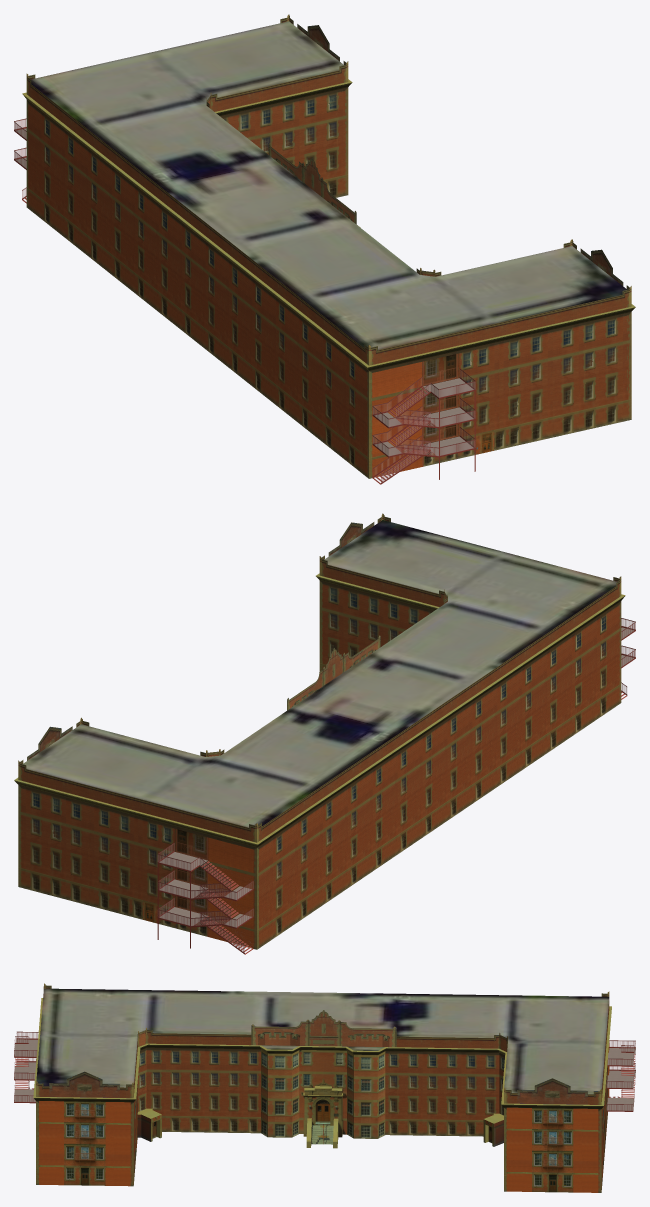
The model's file is Athabasca+Hall.glb.
3 views of the same model, one above another, from view 1: azimuth 30°, elevation 25°; view 2: azimuth 150°, elevation 25°; view 3: azimuth 270°, elevation 25° (orthographic). The views are drawn at different scales.
Visible parts, largest first — view 1: object 35, BigSide, Fire escape (×2), Fire escape#1, BuildingEdge; view 2: object 35, BigSide, Fire escape (×2), Fire escape#1, BuildingEdge; view 3: object 35, FrontWalls (×2), Fire escape (×4), Component#2 (×2), BuildingEdge (×2), BigSide, Fire escape#1.
Part boxes in pixels (left/top/right/bottom): object 35: left=22, top=21, right=635, bottom=476; BigSide: left=372, top=312, right=627, bottom=477; Fire escape (×2): left=372, top=369, right=474, bottom=457; Fire escape#1: left=372, top=427, right=474, bottom=484; BuildingEdge: left=367, top=369, right=372, bottom=478; object 35: left=14, top=520, right=625, bottom=948; BigSide: left=21, top=785, right=253, bottom=948; Fire escape (×2): left=157, top=843, right=253, bottom=928; Fire escape#1: left=158, top=898, right=253, bottom=954; BuildingEdge: left=253, top=846, right=258, bottom=949; object 35: left=33, top=988, right=611, bottom=1180; FrontWalls (×2): left=39, top=1071, right=598, bottom=1192; Fire escape (×4): left=14, top=1031, right=635, bottom=1098; Component#2 (×2): left=137, top=1108, right=503, bottom=1146; BuildingEdge (×2): left=130, top=1102, right=601, bottom=1192; BigSide: left=601, top=1043, right=609, bottom=1189; Fire escape#1: left=606, top=1089, right=634, bottom=1111.
Bounding box in the file's own units: 28.75 × 15.45 × 69.97.
Materials: 37 (35 with a texture image).
